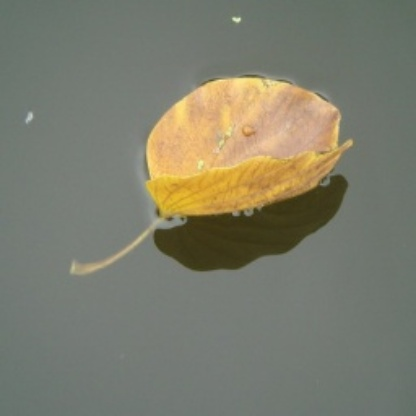leaf: (59, 77, 355, 286)
